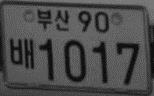0: (63, 39, 86, 82), (93, 10, 109, 33)
1: (90, 41, 113, 83), (38, 37, 59, 80)
7: (116, 41, 139, 86)
9: (77, 9, 91, 32)
배: (9, 37, 35, 70)
부산_H: (36, 8, 69, 31)
